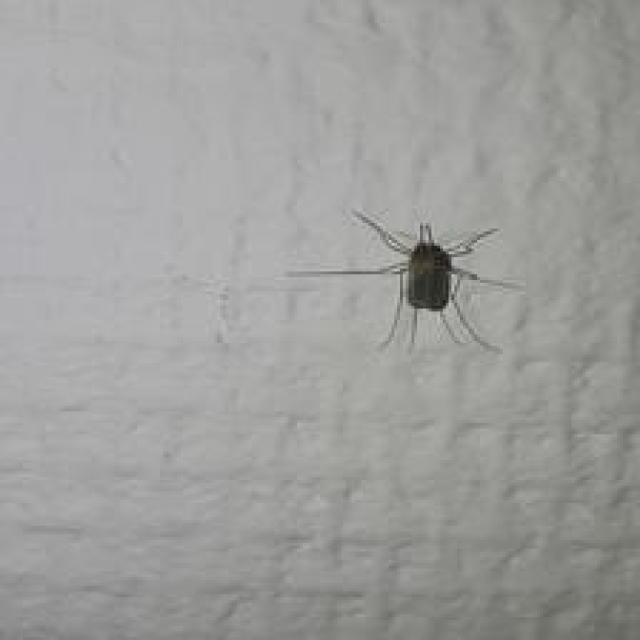Culex: (284, 206, 527, 357)
